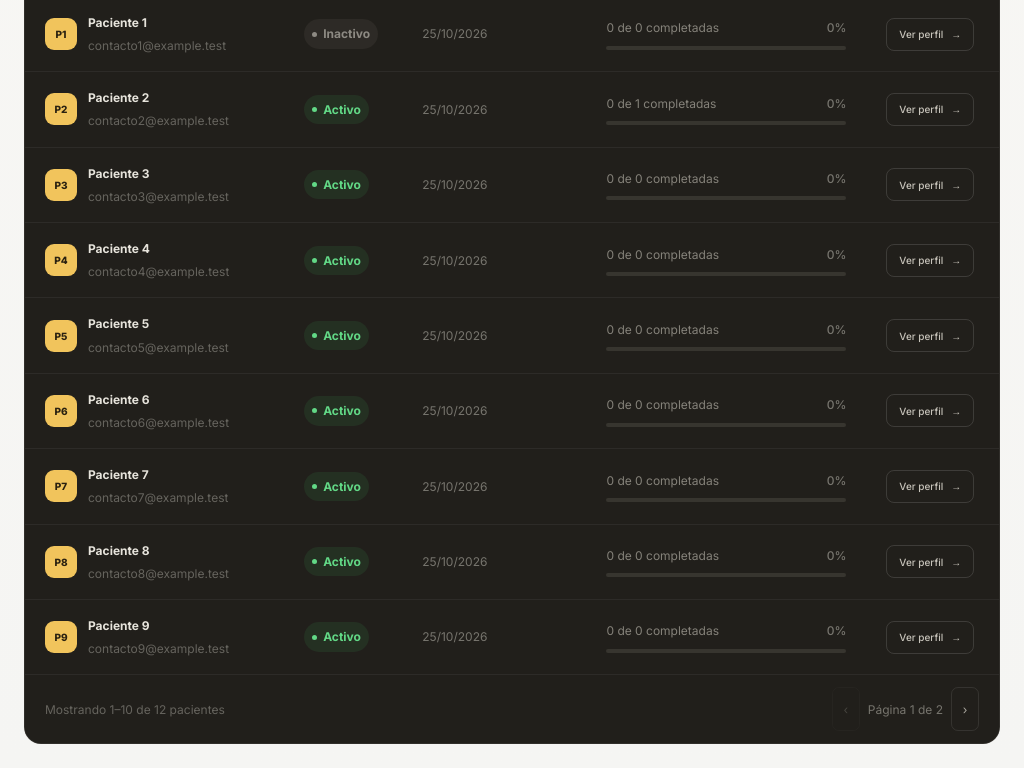
Test: administrative design backed by database records › paginates actual patients and filters by contact, DNI, and state
The width and height of the screenshot is (1024, 768).
(page scrolled)
Click the button named "Página siguiente" at x=965, y=709, box [951,687,979,731]
(page scrolled)
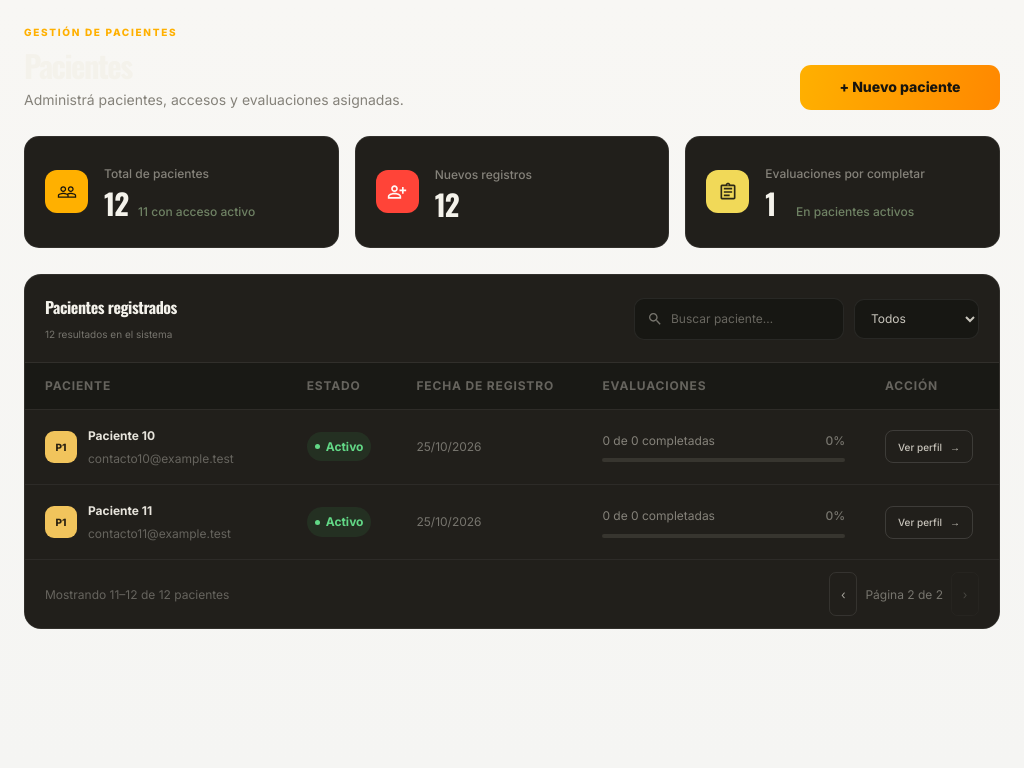
Check: the number of rows is 3, box [25,363,999,409]; [25,409,999,484]; [25,484,999,559]
Type "contacto0@" into the field named "Filtrar pacientes" at x=751, y=318, box [671,298,831,338]
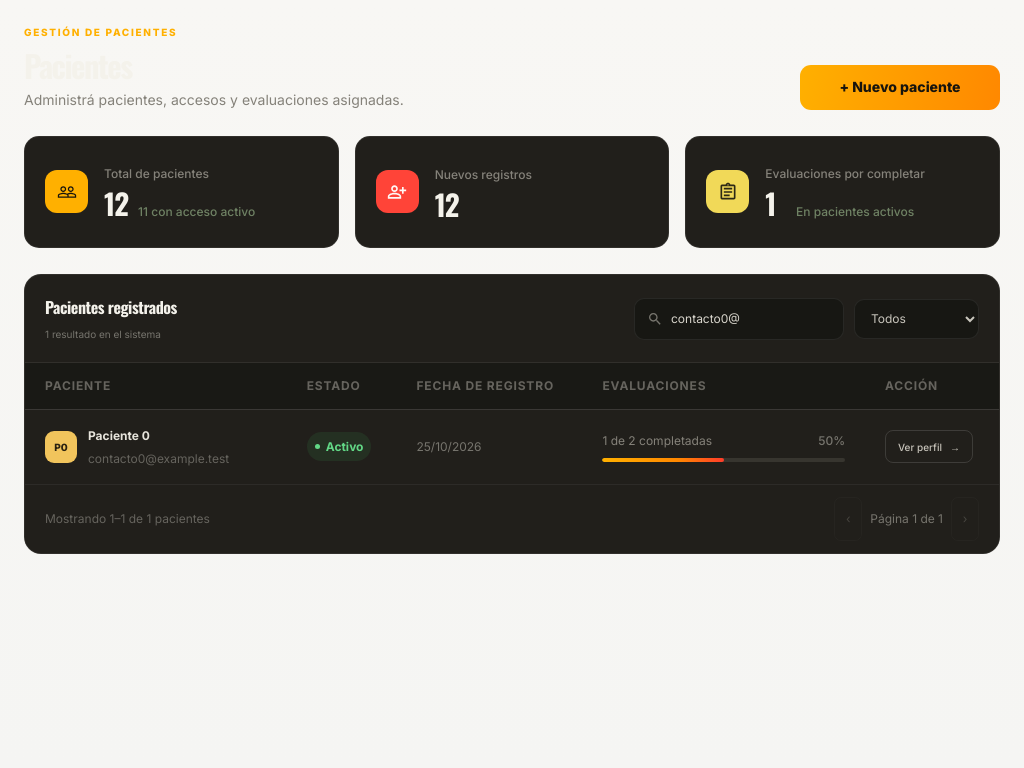
Check: the text "Paciente 0" is shown, box [88,428,150,442]
Check: the number of rows is 2, box [25,363,999,409]; [25,409,999,484]
Replace the text in the field named "Filtrar pacientes" with "1001" at x=751, y=318, box [671,298,831,338]
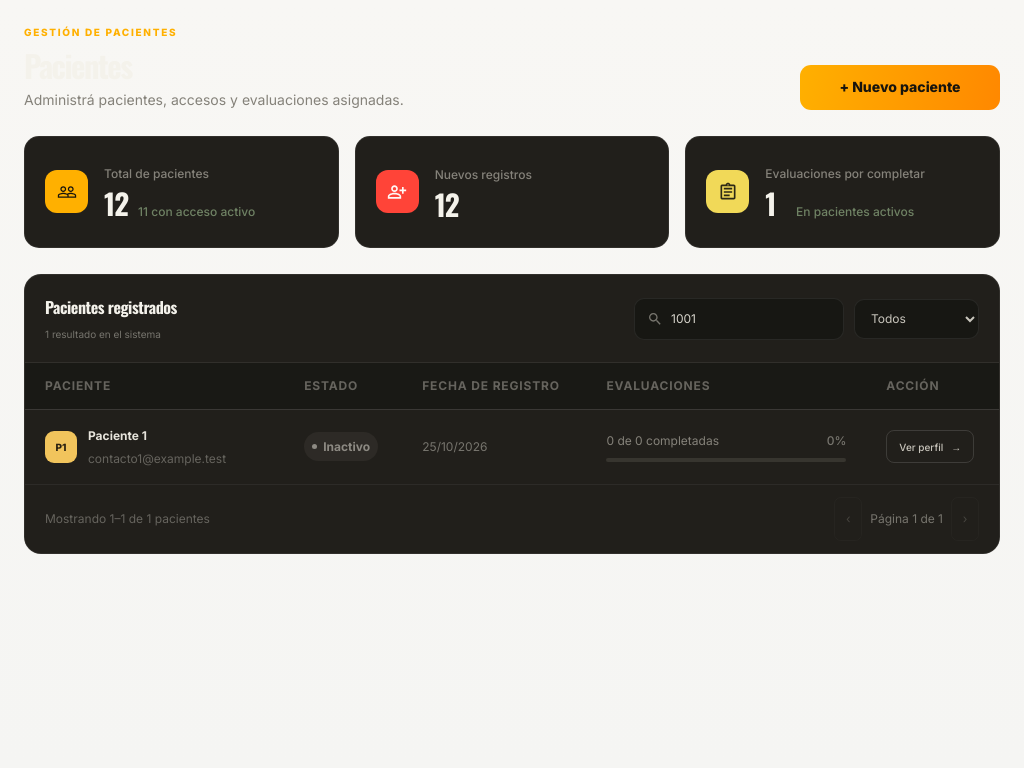
Check: the text "Paciente 1" is shown, box [88,428,147,442]
Select "Activo" in the dropdown named "Filtrar por estado" at x=916, y=318, box [854,298,979,338]
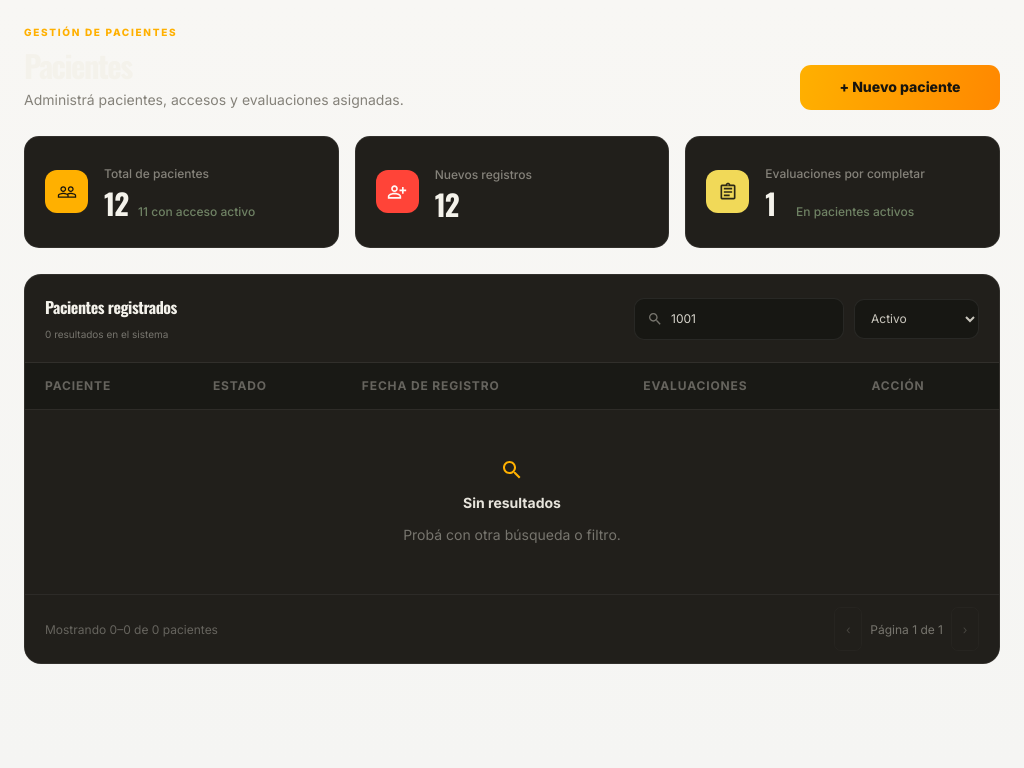
Check: the text "Página 1 de 1" is shown, box [870,620,943,639]
Check: the text "Sin resultados" is shown, box [463,492,561,514]
